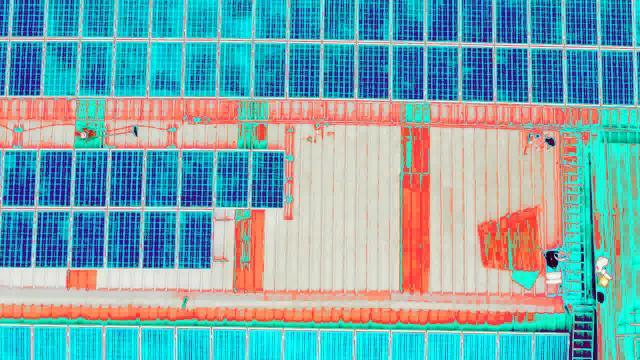dirty: (44, 41, 78, 95), (78, 41, 112, 95), (114, 41, 148, 95), (148, 41, 182, 95), (185, 42, 219, 96), (217, 41, 251, 95), (220, 1, 252, 38), (185, 1, 217, 38), (152, 1, 184, 38), (117, 1, 149, 38), (83, 1, 115, 38)
semi: (2, 151, 36, 207), (38, 150, 72, 206), (73, 151, 107, 207), (111, 151, 145, 207), (145, 151, 179, 207), (181, 150, 215, 206), (215, 151, 249, 207), (249, 150, 283, 206), (35, 211, 69, 267), (71, 210, 105, 266), (106, 211, 140, 267), (141, 210, 175, 266), (177, 210, 211, 266), (1, 210, 34, 266), (10, 39, 41, 96), (255, 40, 286, 97), (290, 40, 321, 97), (324, 41, 355, 98), (357, 41, 388, 98), (392, 42, 423, 99), (427, 42, 458, 99), (461, 44, 492, 101), (497, 45, 528, 102), (532, 45, 563, 102), (567, 47, 598, 104), (603, 47, 634, 104), (460, 1, 493, 45), (600, 1, 633, 44), (564, 1, 597, 44), (530, 1, 563, 44), (493, 1, 526, 44), (426, 1, 457, 41), (392, 1, 423, 41), (360, 1, 391, 41), (326, 1, 357, 41), (289, 1, 320, 41)
